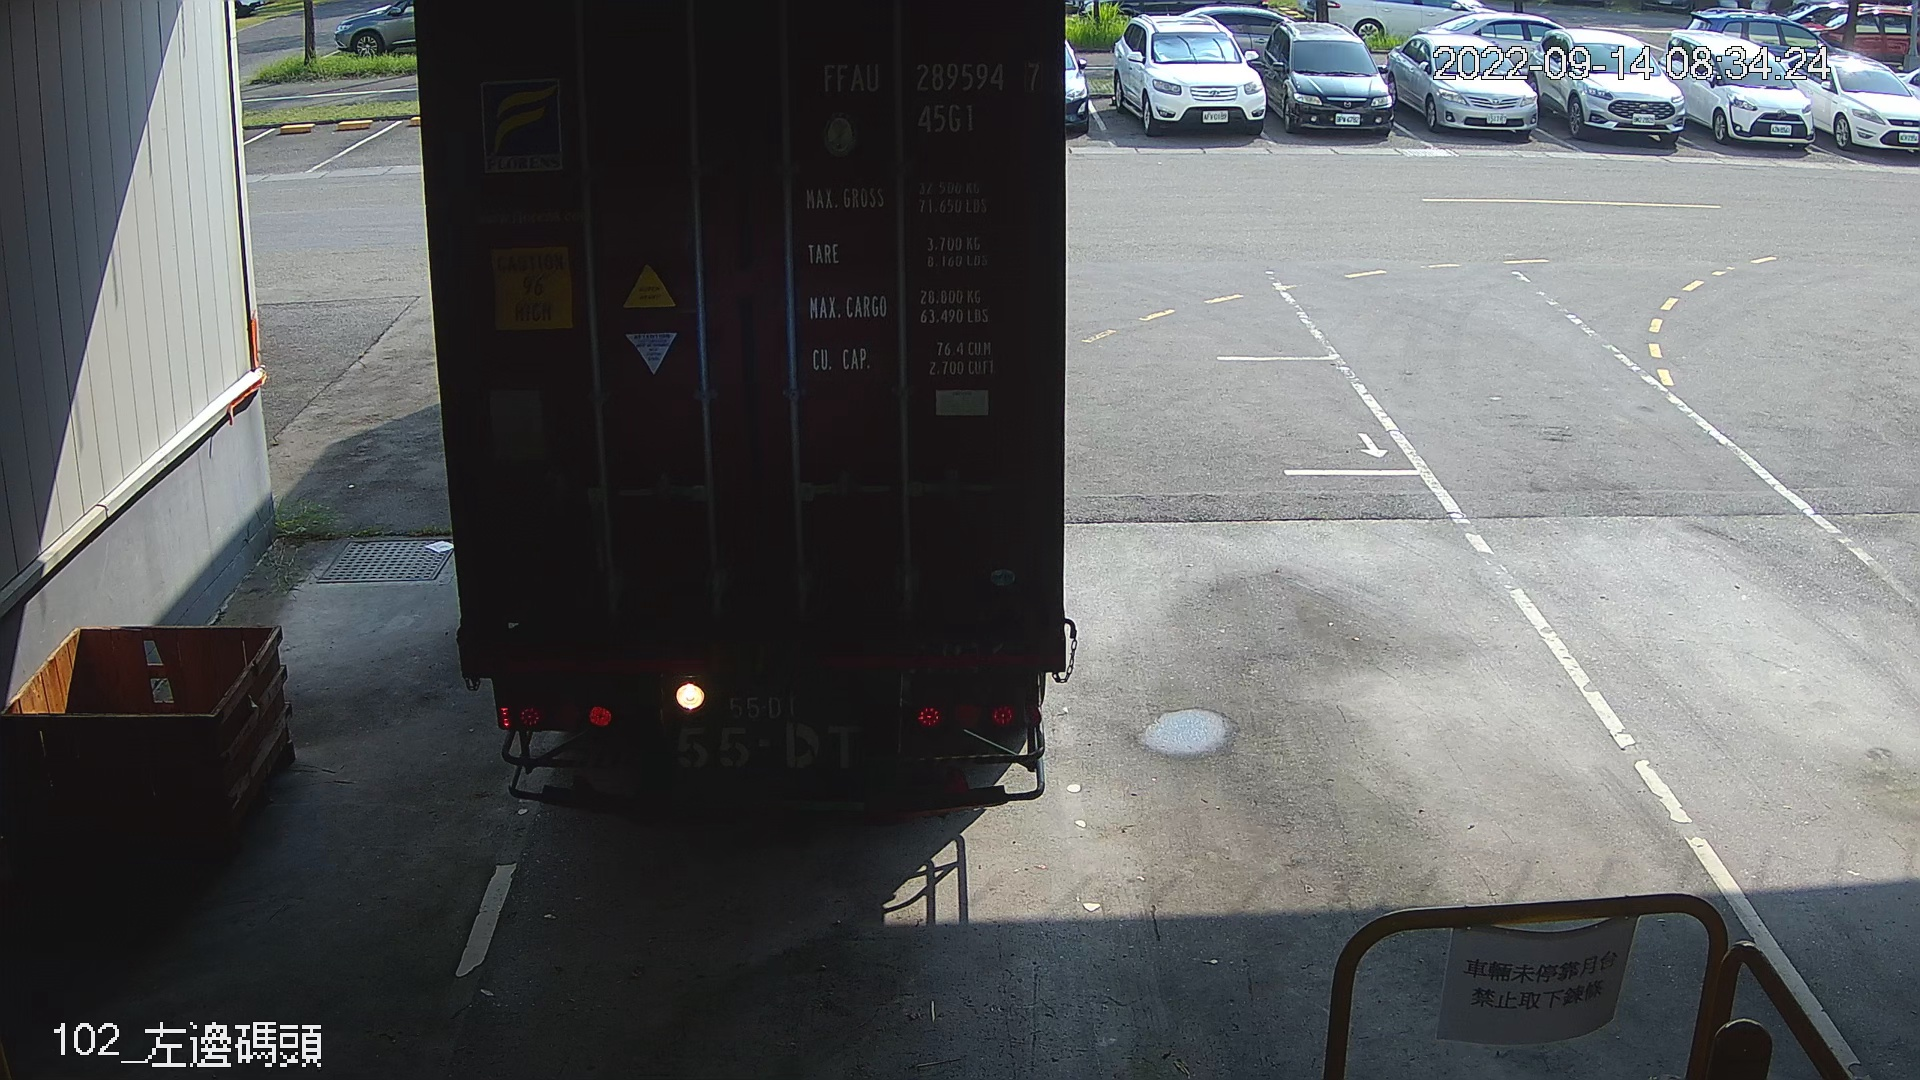container: (812, 47, 1050, 148)
